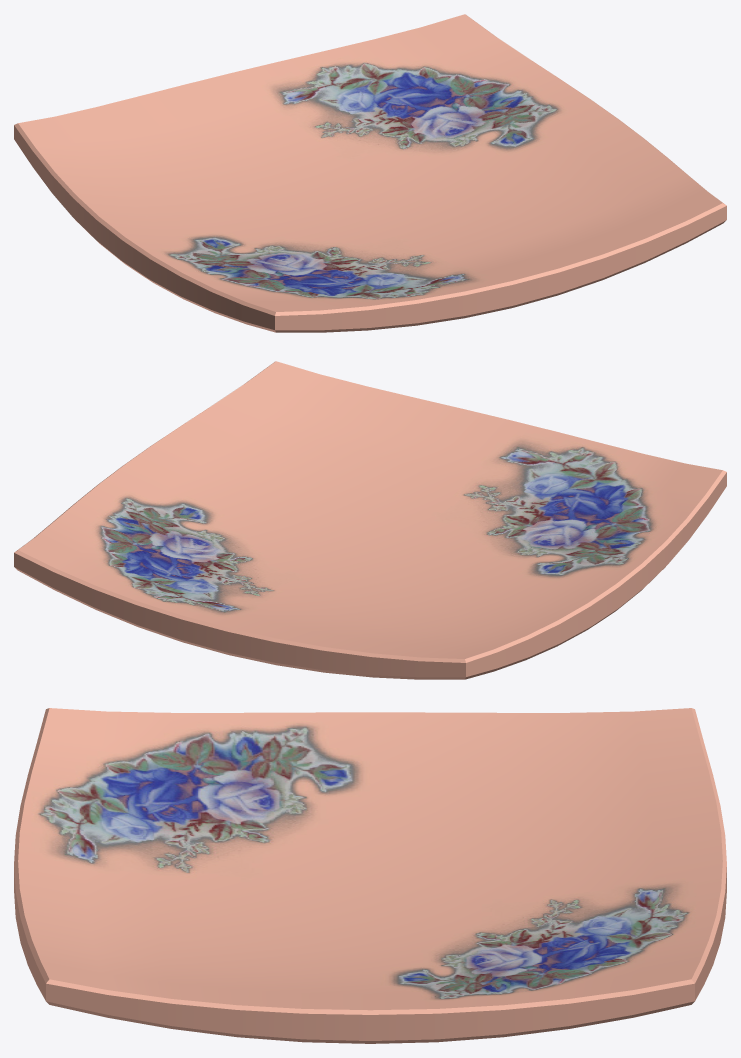
File: saucer_c02.fbx
The picture shows the model from 3 angles, top to bottom: view 1: azimuth 30°, elevation 25°; view 2: azimuth 150°, elevation 25°; view 3: azimuth 270°, elevation 25°; orthographic projection. The views are drawn at different scales.
Visible parts, largest first — view 1: saucer_c02; view 2: saucer_c02; view 3: saucer_c02.
Part boxes in pixels (bbox=[...]): saucer_c02: bbox=[14, 14, 726, 332]; saucer_c02: bbox=[14, 361, 726, 679]; saucer_c02: bbox=[14, 708, 726, 1043].
Bounding box in the file's own units: 8.07 × 1.08 × 8.07.
Materials: 1 (1 with a texture image).
